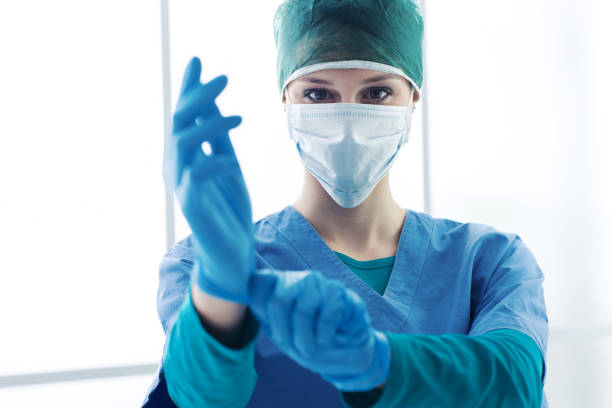Gloves: (164, 52, 273, 307), (248, 263, 395, 399)
with_mask: (290, 87, 410, 203)
